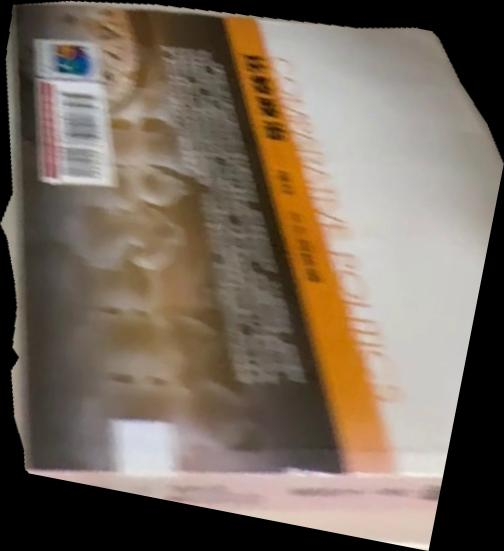flat: (1, 1, 504, 551)
